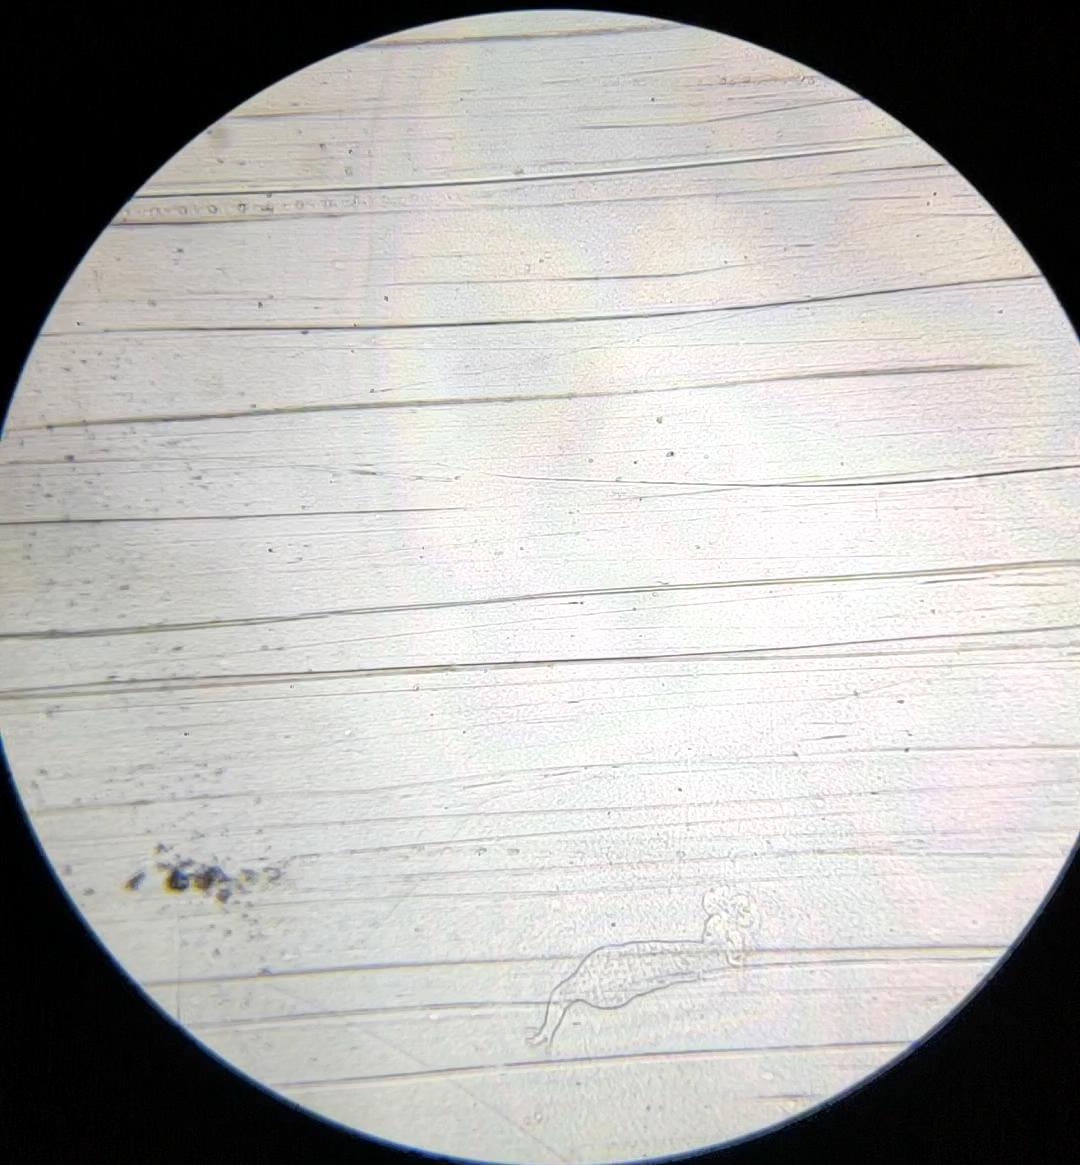Do: (524, 885, 760, 1056)
